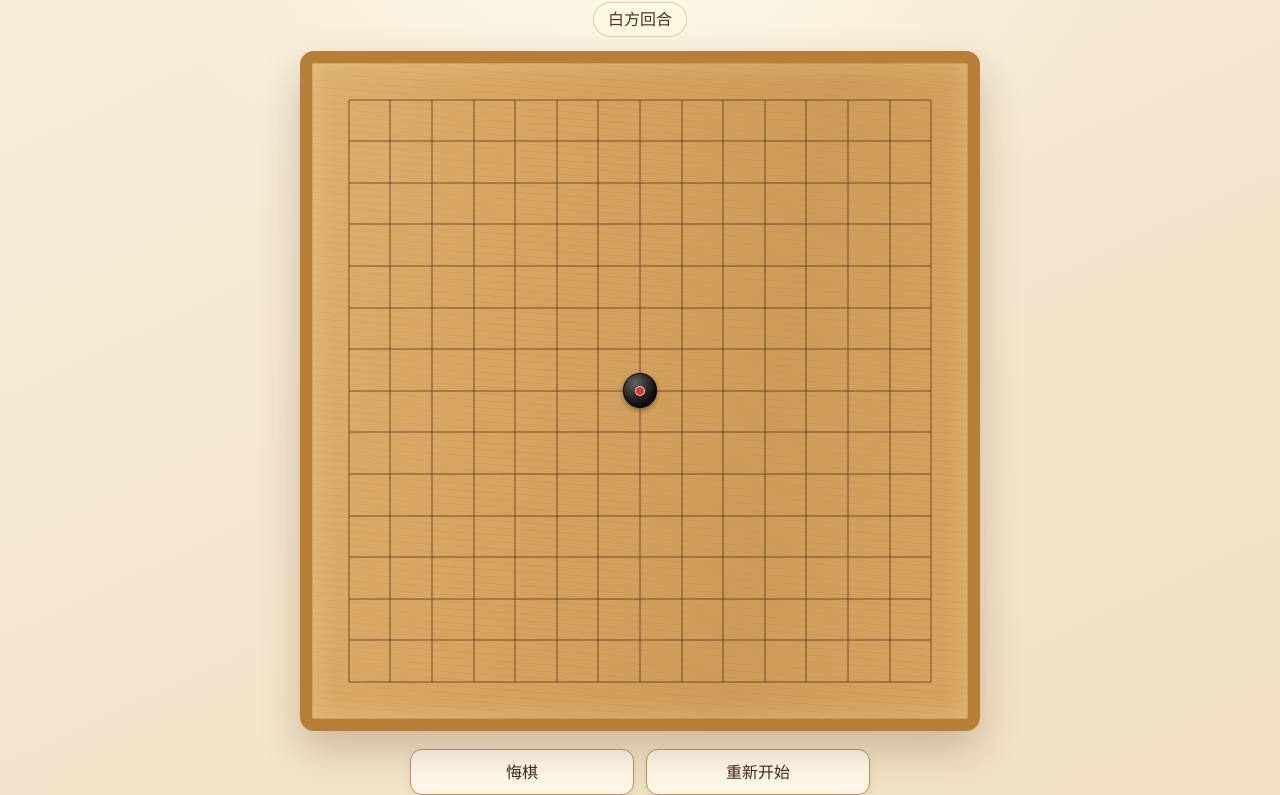
Scenario: GomokuPage › 非空棋局重新开始可取消，确认弹窗接管焦点并限制前后 Tab
This screenshot has width=1280, height=795.
(page scrolled)
Click the button "重新开始": (758, 772) top-left (646, 749), bottom-right (870, 794)
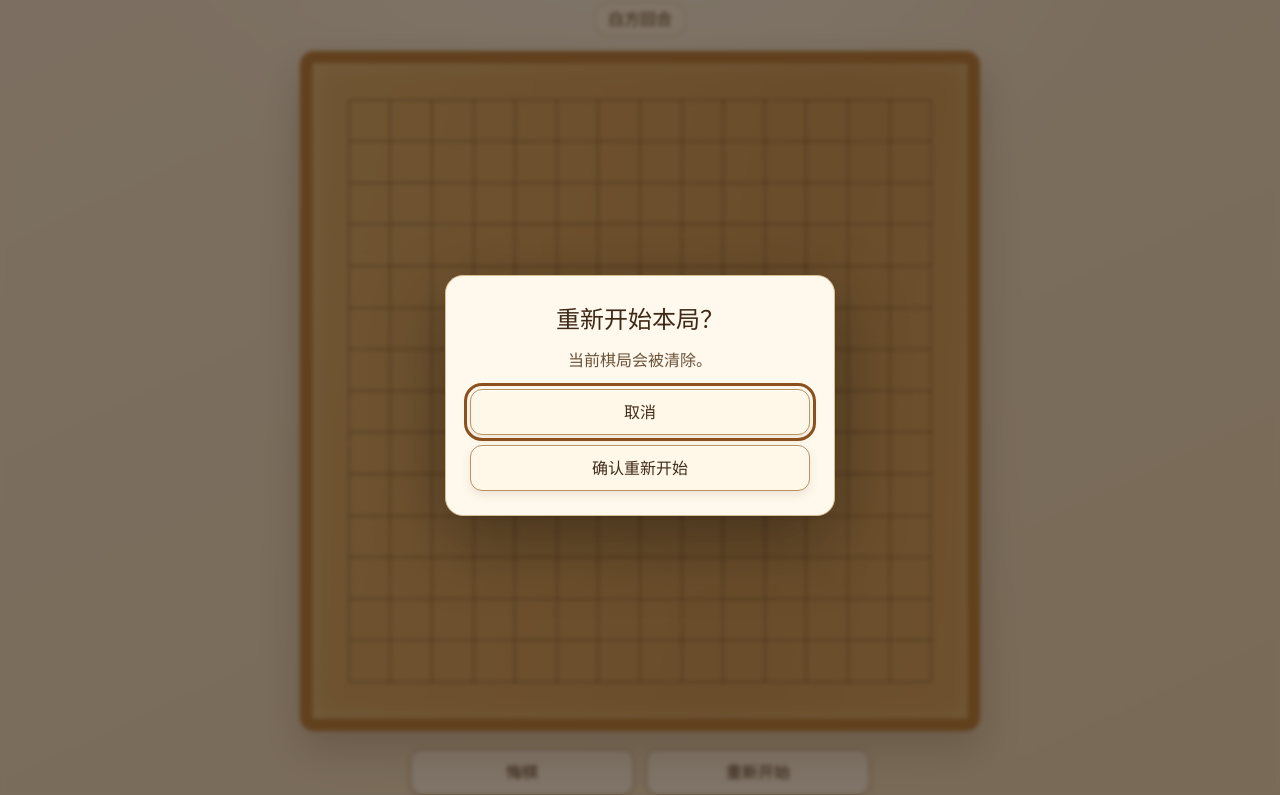
Press Shift+Tab
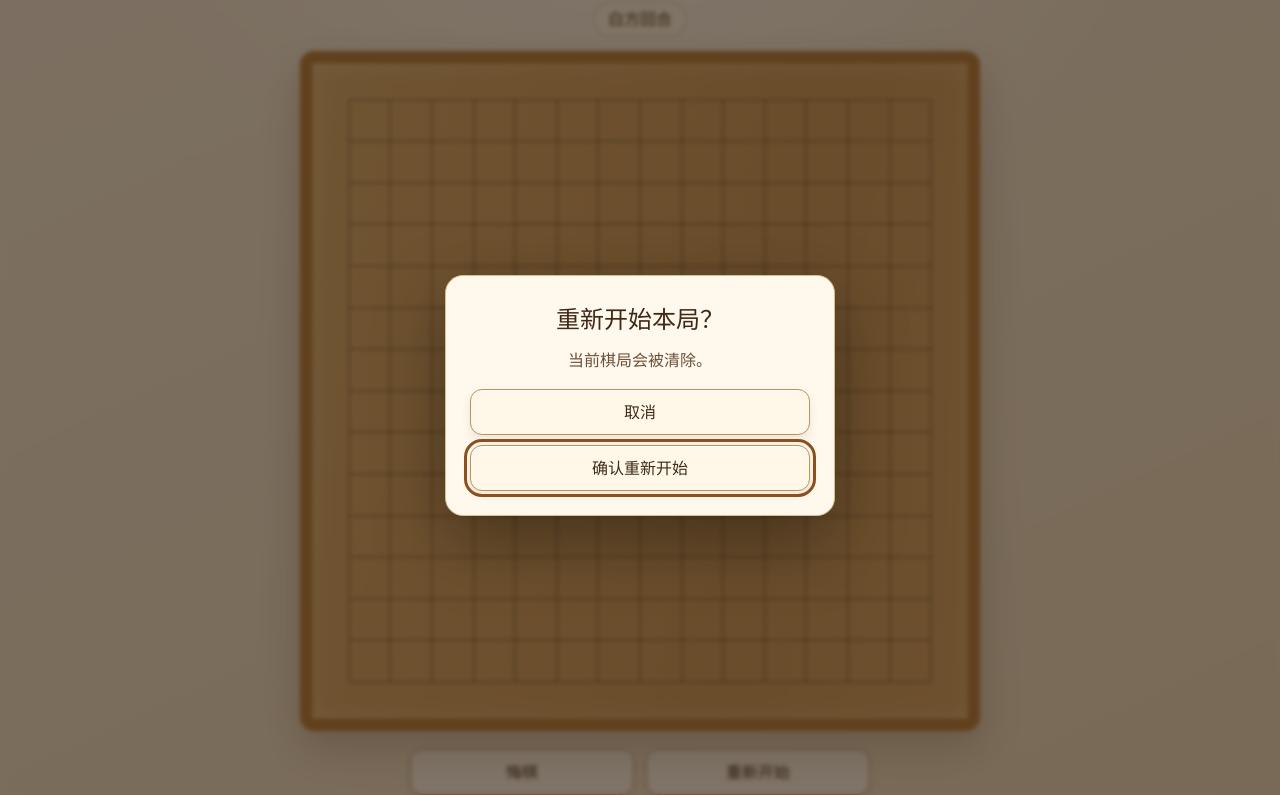
Press Tab
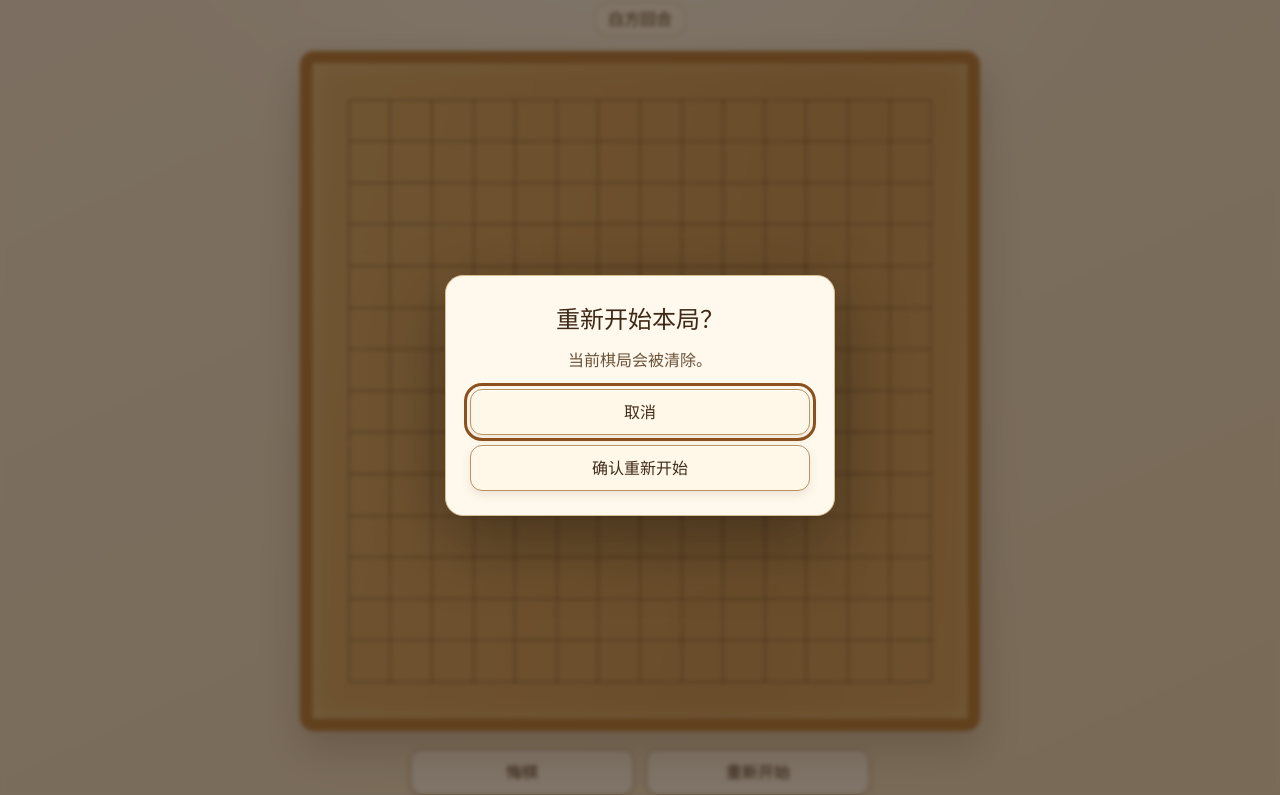
Click the button "取消": (640, 412) top-left (470, 388), bottom-right (810, 434)
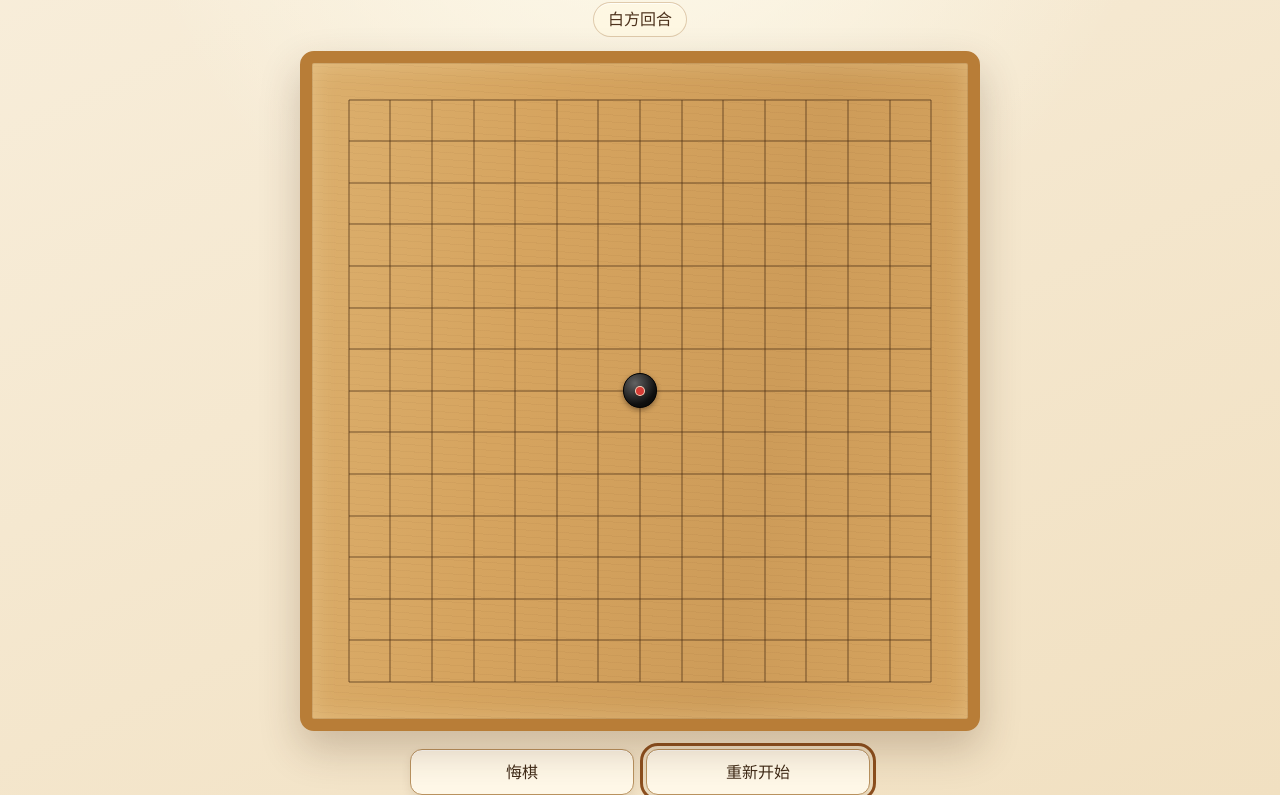
Expected: the button named "第 8 行第 8 列，黑棋，最后一步" is disabled, top-left (619, 370), bottom-right (661, 412)
Now the dialog is gone
